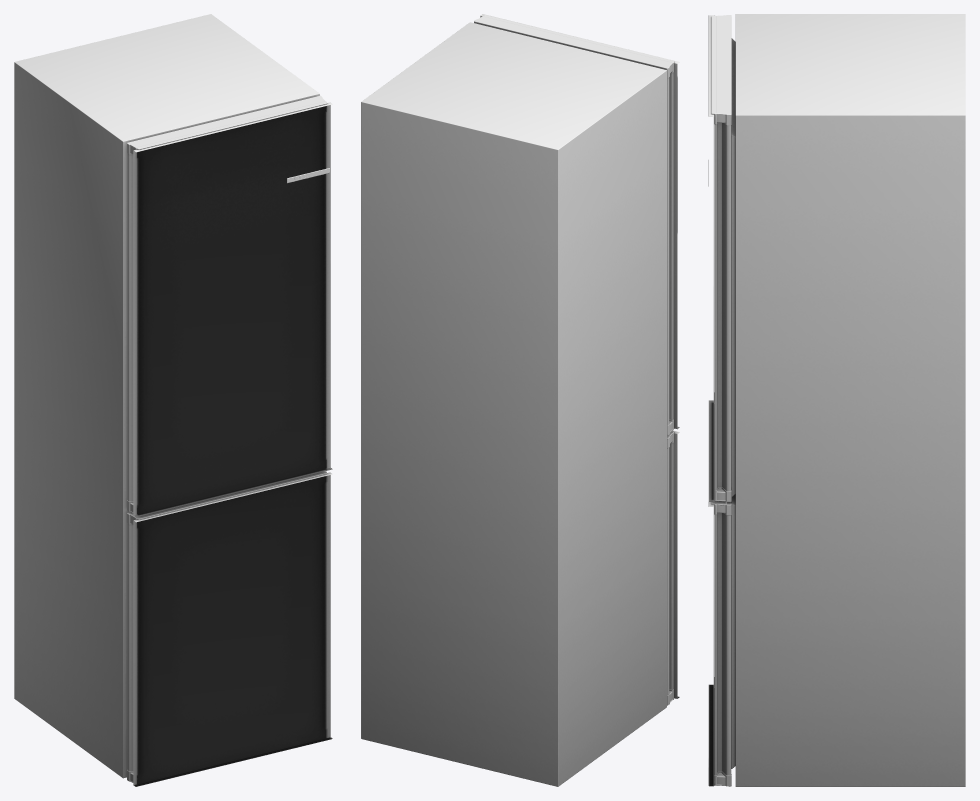
File: BoschVariostyle_V005_static.glb
The picture shows the model from 3 angles, left to right: view 1: azimuth 30°, elevation 25°; view 2: azimuth 150°, elevation 25°; view 3: azimuth 270°, elevation 25°; orthographic projection. The views are drawn at different scales.
Visible parts, largest first — view 1: Main; view 2: Main; view 3: Main.
Boxes of the visible parts, <box> form: Main: <box>14,14,332,786</box>; Main: <box>361,14,679,786</box>; Main: <box>708,14,965,786</box>.
Size of what is drawn, in the model's own units: 0.595 by 1.84 by 0.6377.
Materials: 2 (1 with a texture image).
